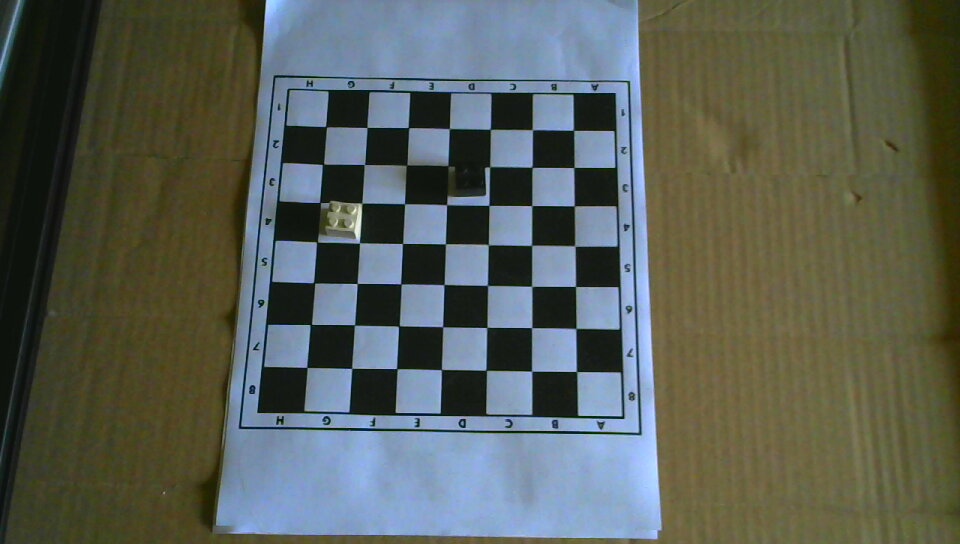bp: (453, 162, 487, 198)
wp: (323, 200, 362, 240)
